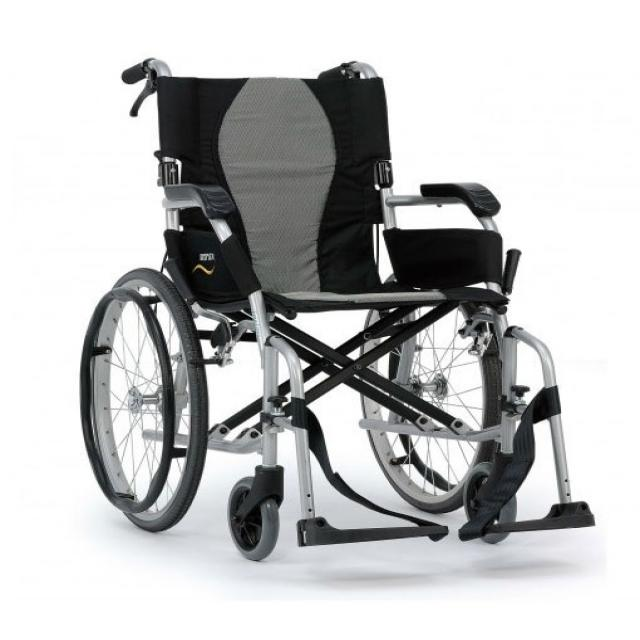wheelchair: (72, 42, 607, 570)
